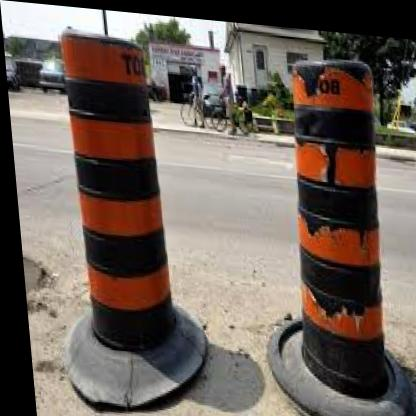obstacle: (272, 45, 400, 393), (61, 27, 168, 353)
